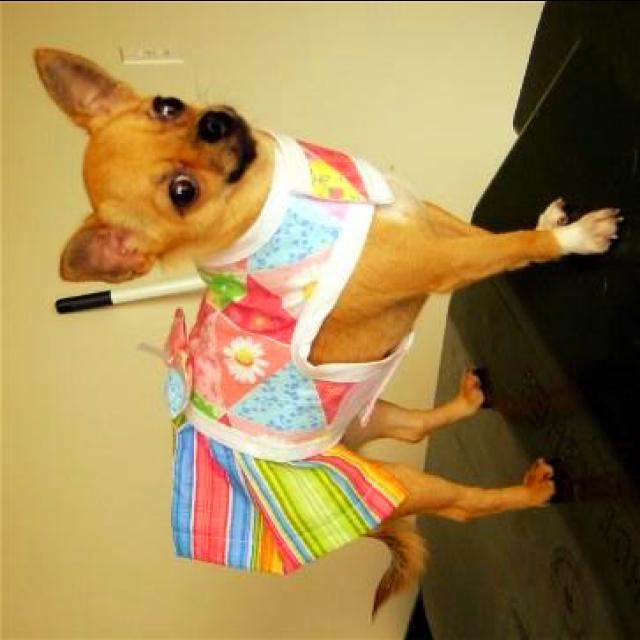chihuahua: (28, 43, 630, 627)
